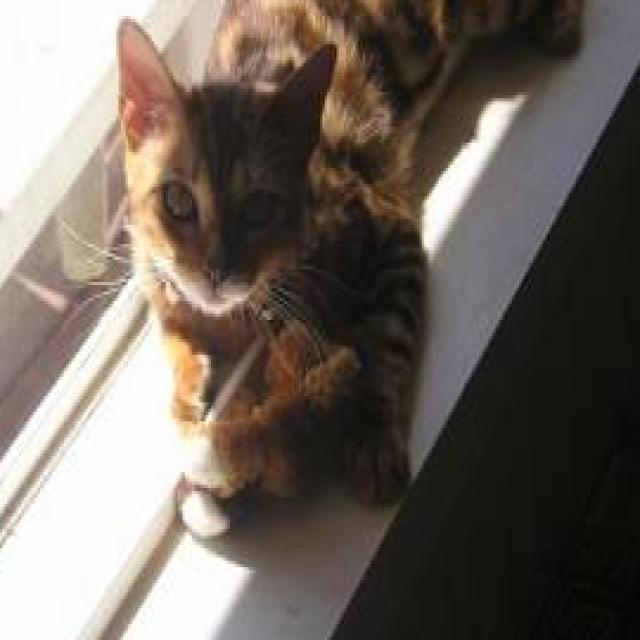Bengal: (104, 0, 590, 535)
